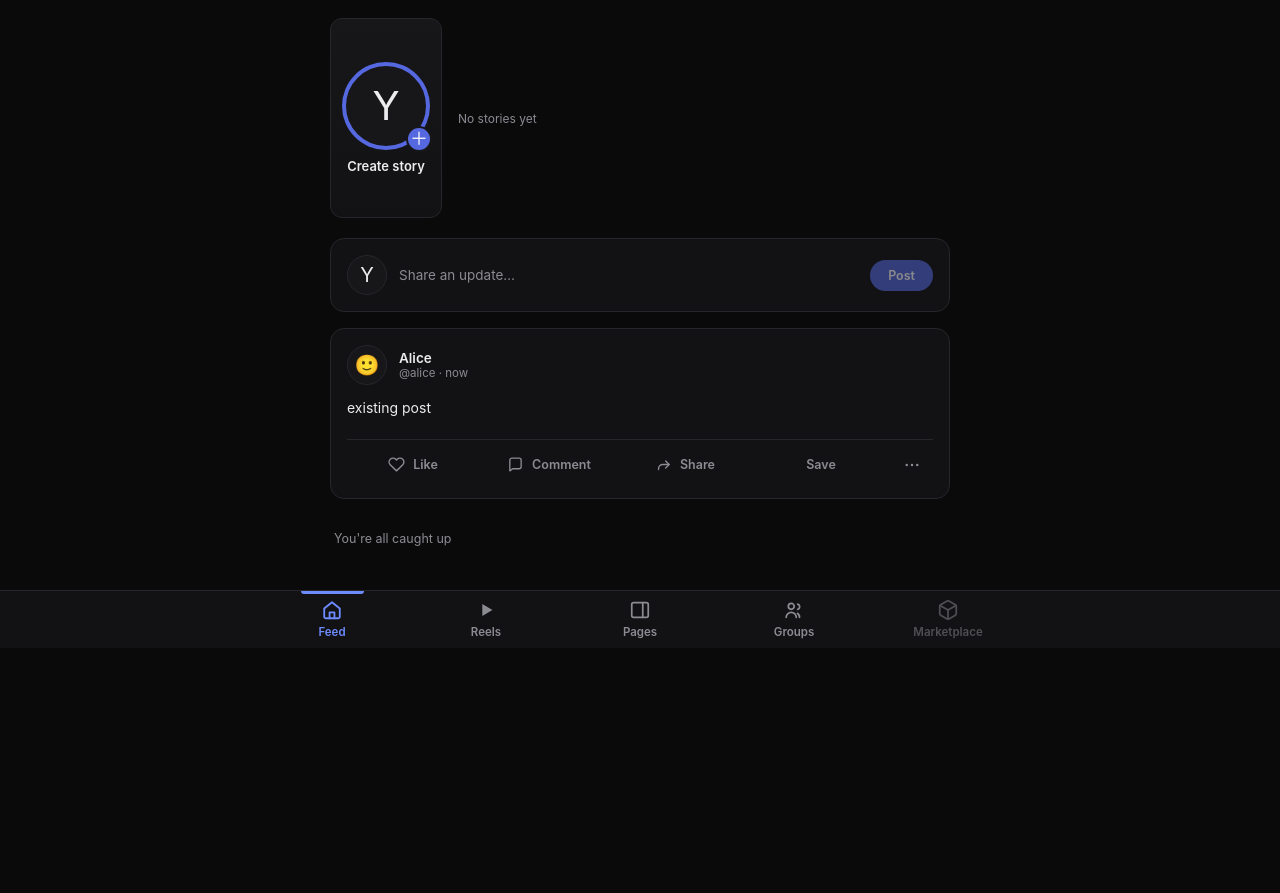
Scenario: Newly published posts render through the shared card › renders the created post as a full PostCard
Check: the text "existing post" is shown, box x1=347 y1=399 x2=431 y2=416
Step 1. Type "fresh from the composer" into the text box named "Post text" → (629, 275), box x1=399 y1=257 x2=858 y2=293
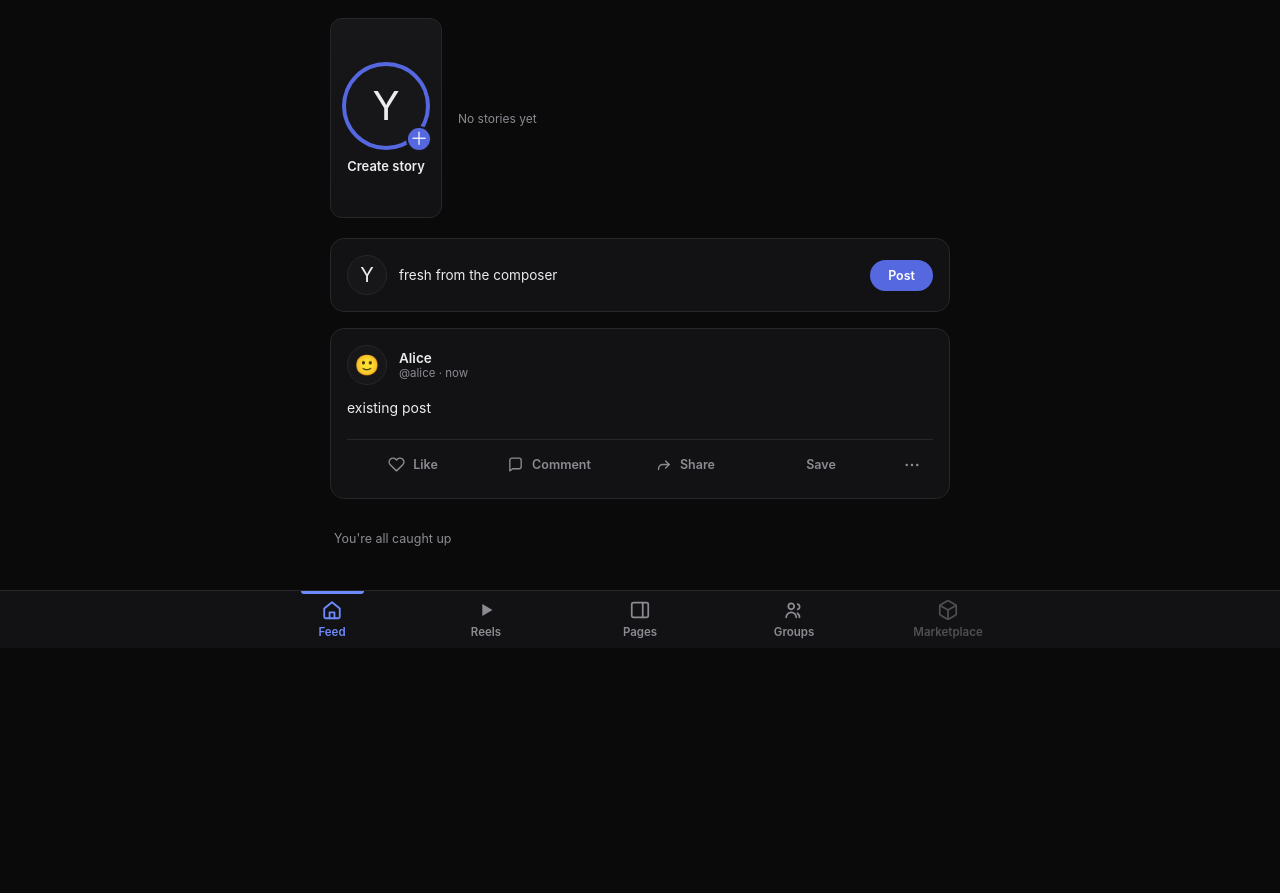
Step 2. Click the button "Post" → (902, 275), box x1=870 y1=260 x2=933 y2=290
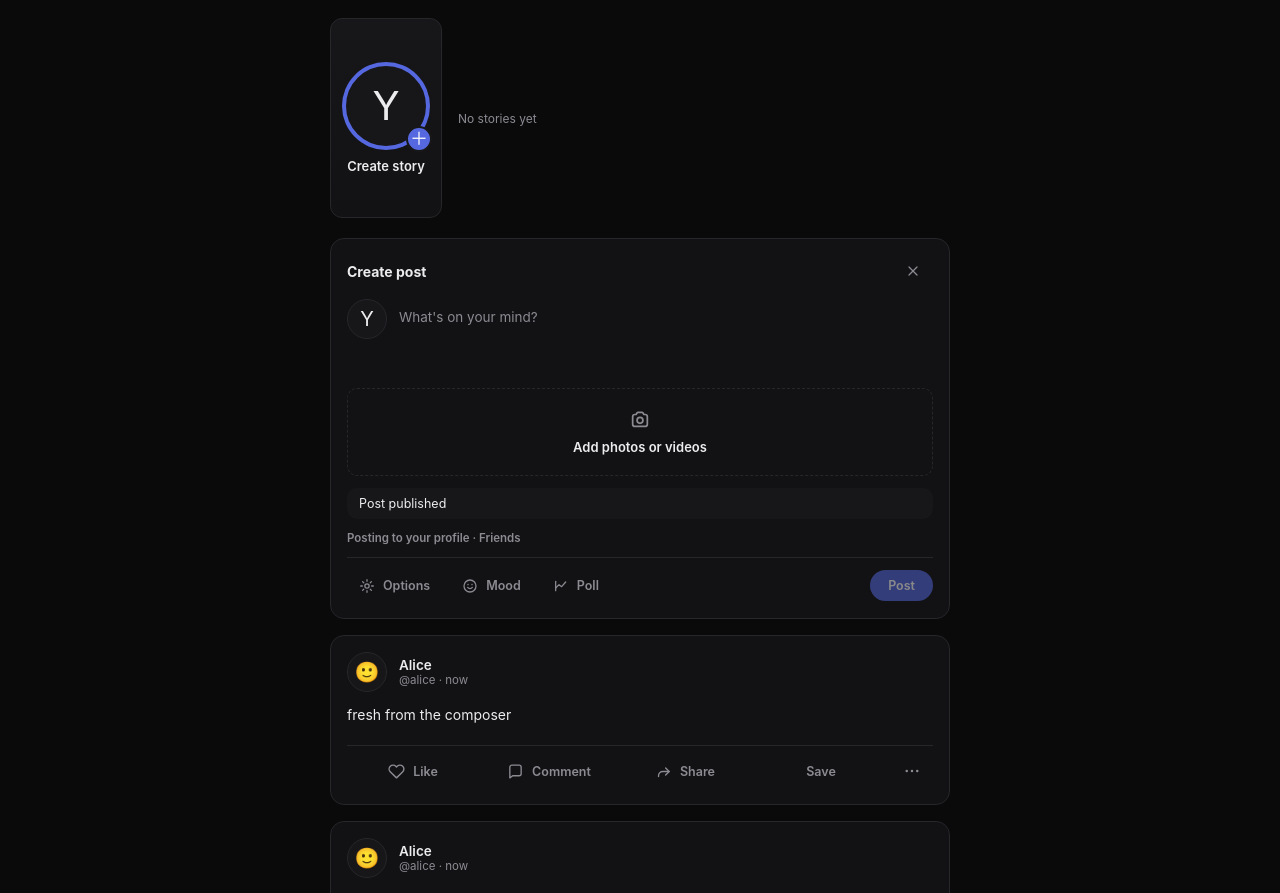
Check: the text "Post published" is shown, box x1=347 y1=488 x2=933 y2=519
Check: the element with class "feed-post" shows "fresh from the composer", box x1=347 y1=706 x2=511 y2=723
Check: the element with class "feed-actions" is shown, box x1=347 y1=745 x2=933 y2=788
